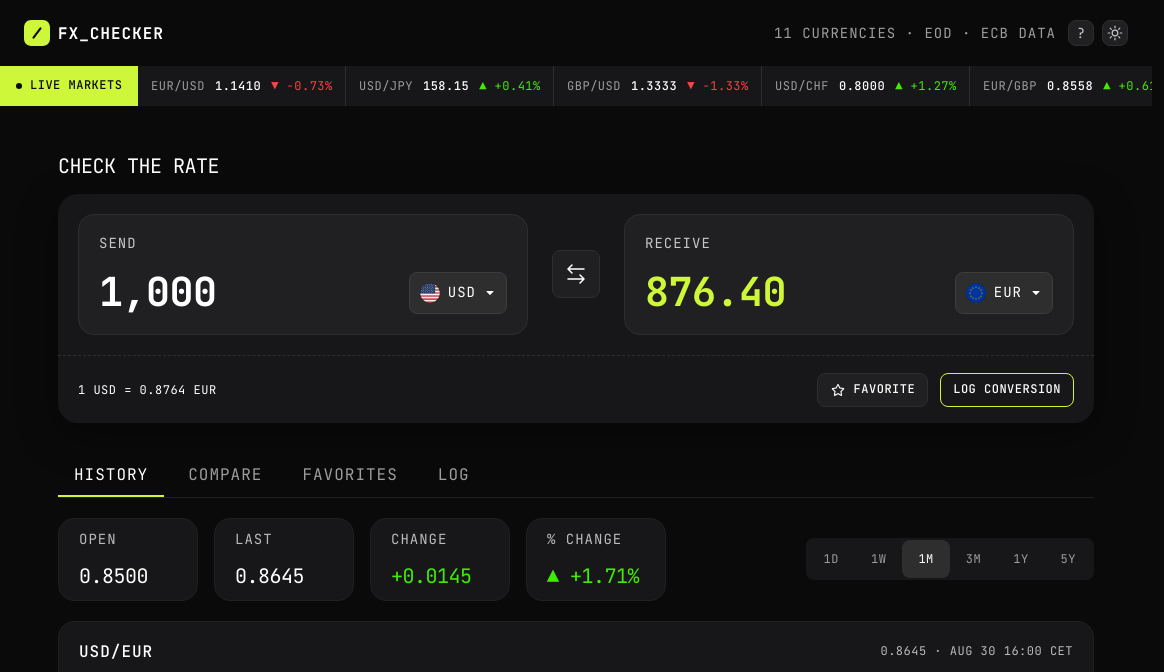
Focus after destructive actions (US3, keyboard) › moves focus to Undo after Clear all, then to the list after Undo
This screenshot has width=1164, height=672.
Check: the text "1 USD = 0.8764 EUR" is shown, box x1=78 y1=383 x2=217 y2=397
Click the button "Log conversion".
click(1007, 390)  # box x1=940 y1=373 x2=1074 y2=407
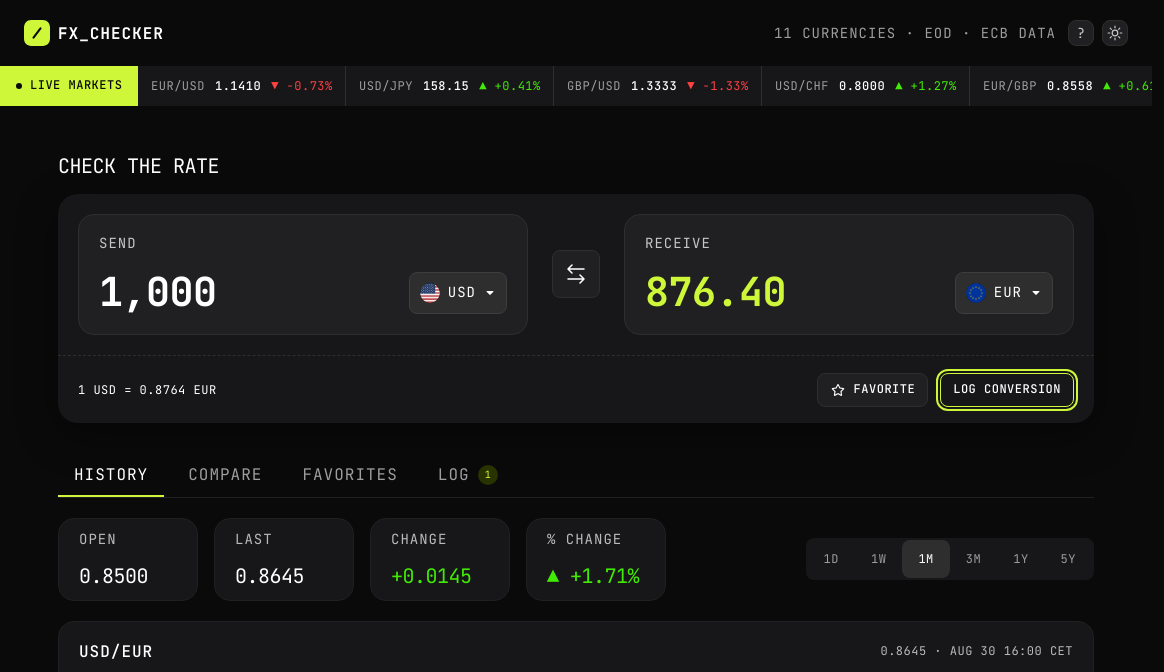
Click the button "Log conversion".
click(1007, 390)  # box x1=940 y1=373 x2=1074 y2=407
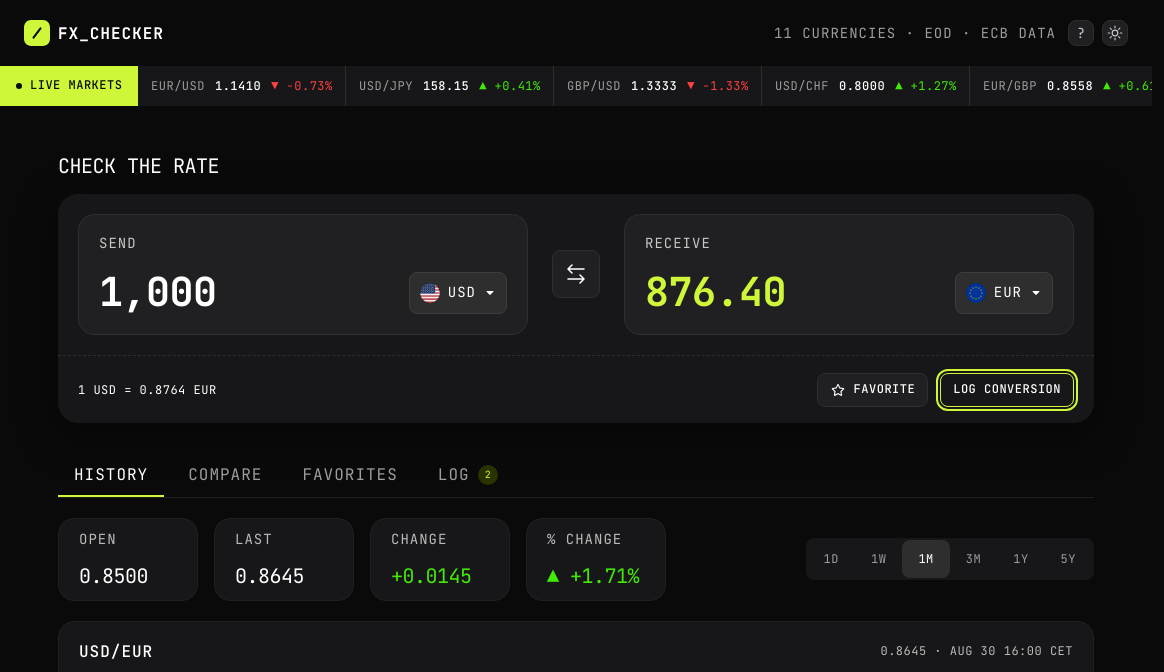
Click the tab "Log 2".
click(468, 476)  # box x1=422 y1=455 x2=514 y2=497
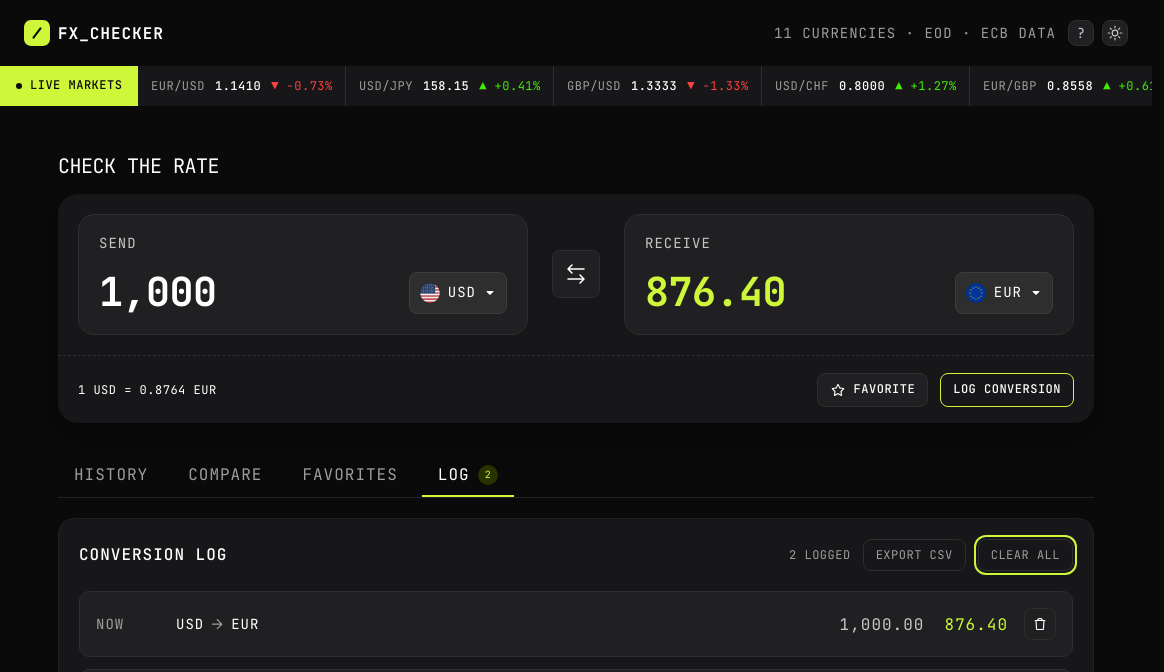
Press Enter
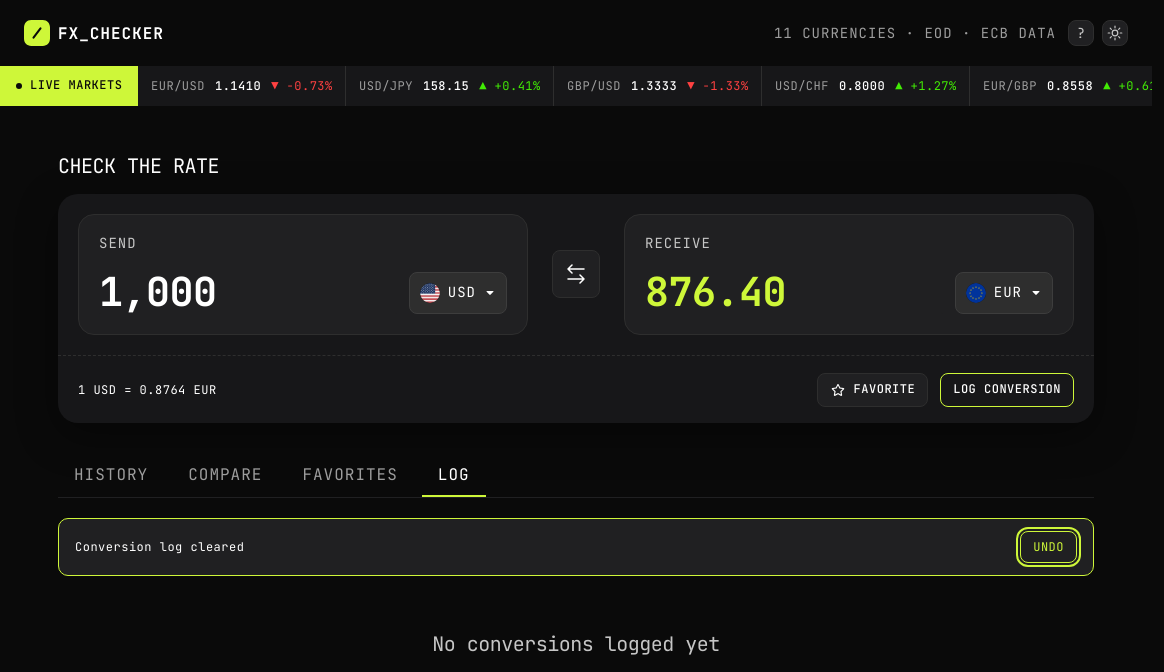
Press Enter
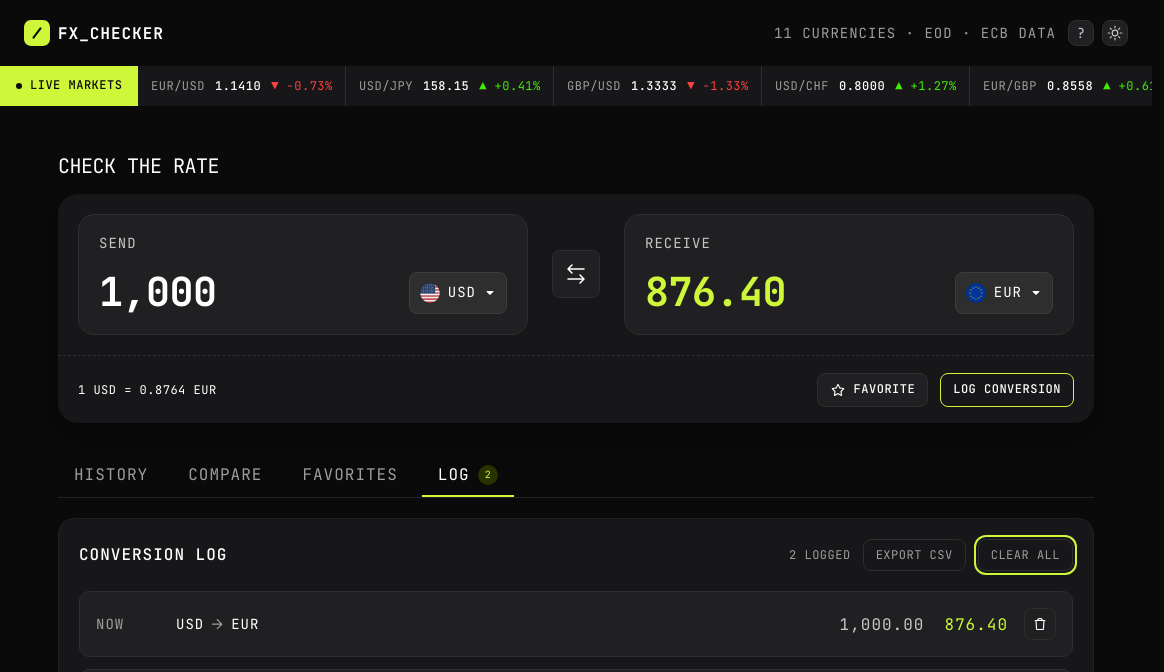
Check: the text "2 logged" is shown, box x1=789 y1=548 x2=851 y2=562
